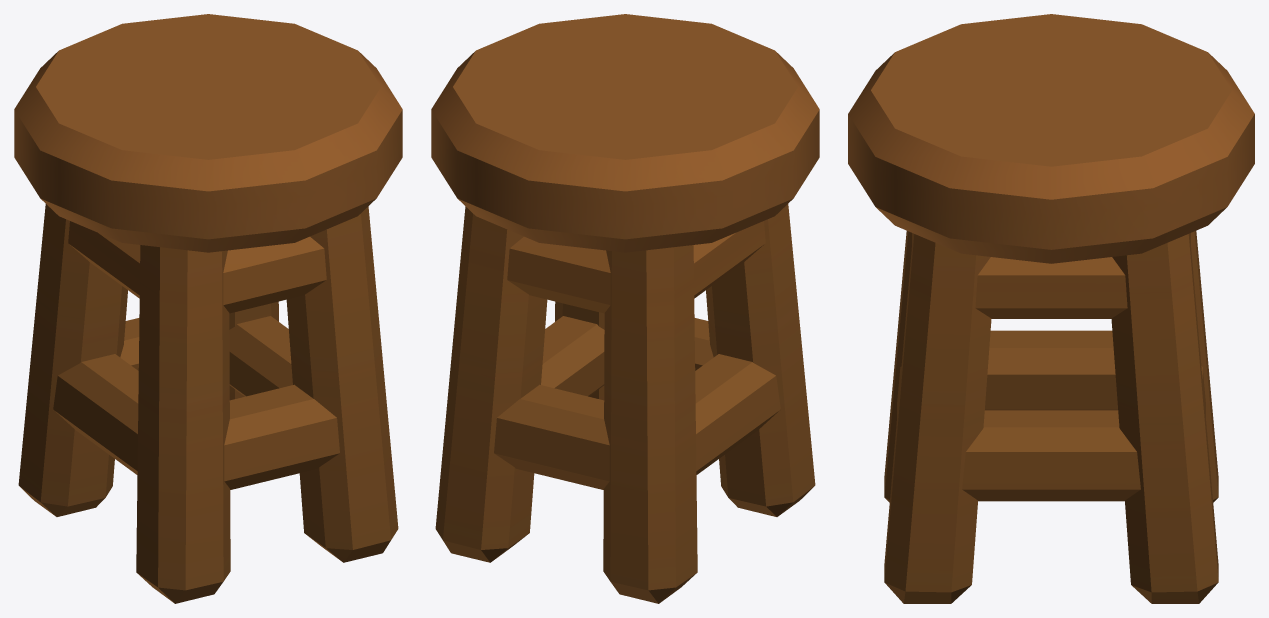
Rendered from Stool_1_D.glb.
3 views of the same model, side by side, from view 1: azimuth 30°, elevation 25°; view 2: azimuth 150°, elevation 25°; view 3: azimuth 270°, elevation 25° (orthographic). The views are drawn at different scales.
Parts seen in each view (by area): view 1: Stool_1_D; view 2: Stool_1_D; view 3: Stool_1_D.
Part boxes in pixels (x1,y1,x2,y2): Stool_1_D: (14, 14, 402, 603); Stool_1_D: (431, 14, 819, 603); Stool_1_D: (848, 14, 1254, 603).
Size of the model in its own units: 0.4415 by 0.5516 by 0.4415.
1 material, 1 textured.
